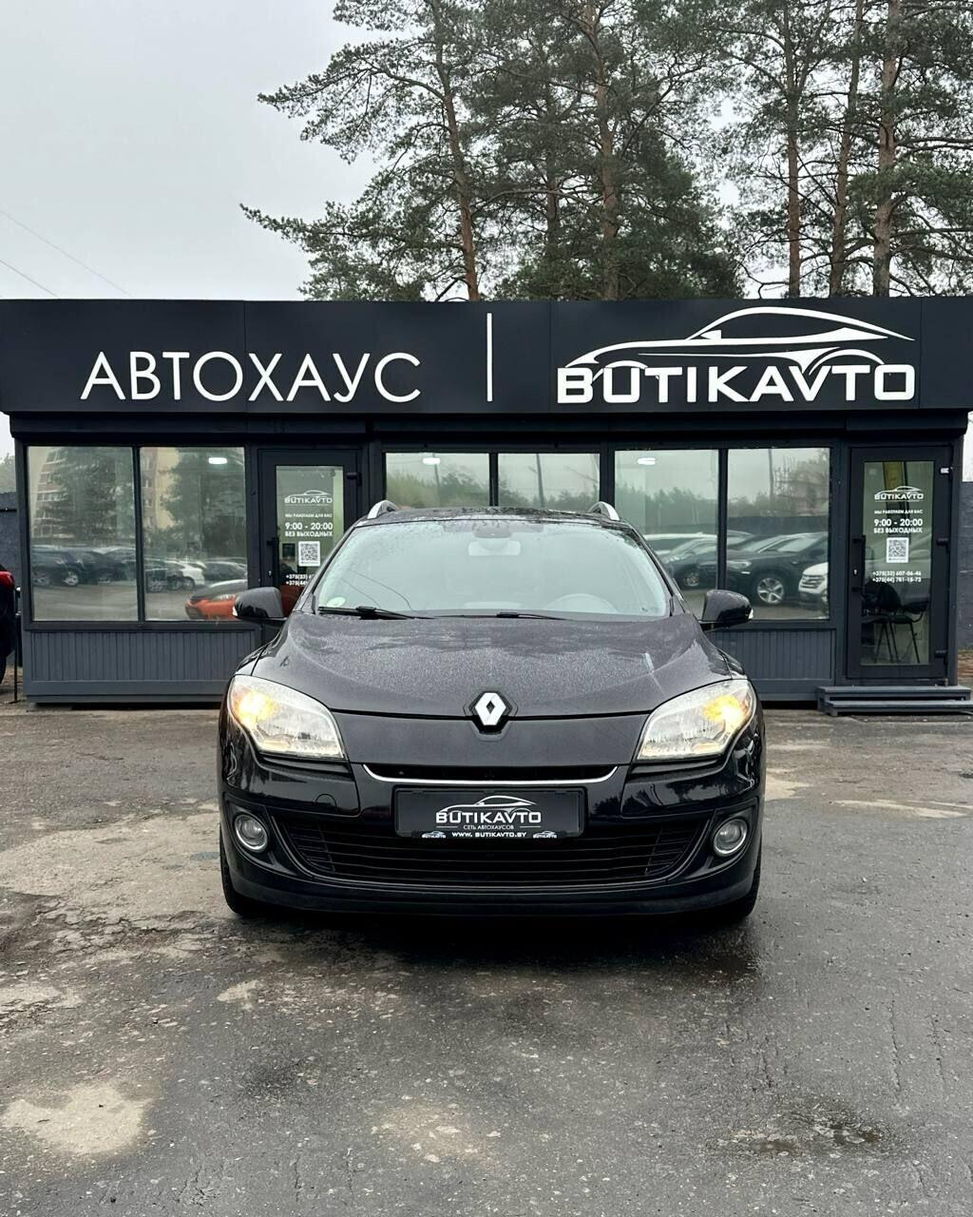Megane_2012-2014: (195, 501, 789, 937)
